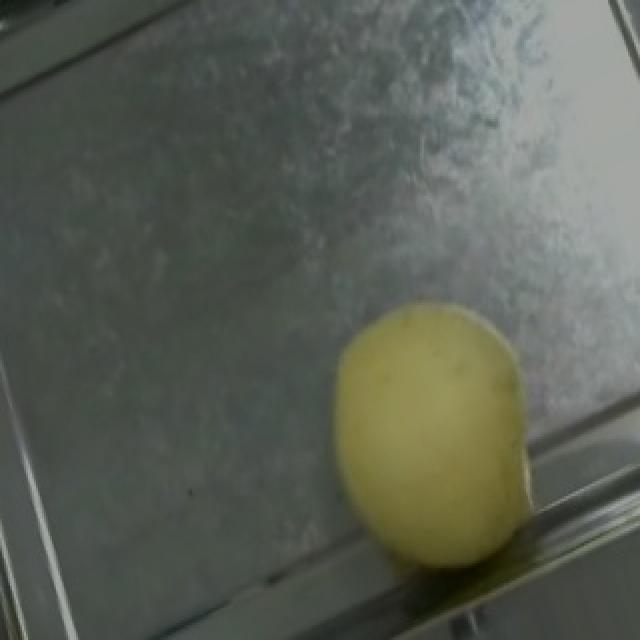Fruit: (278, 260, 592, 610)
